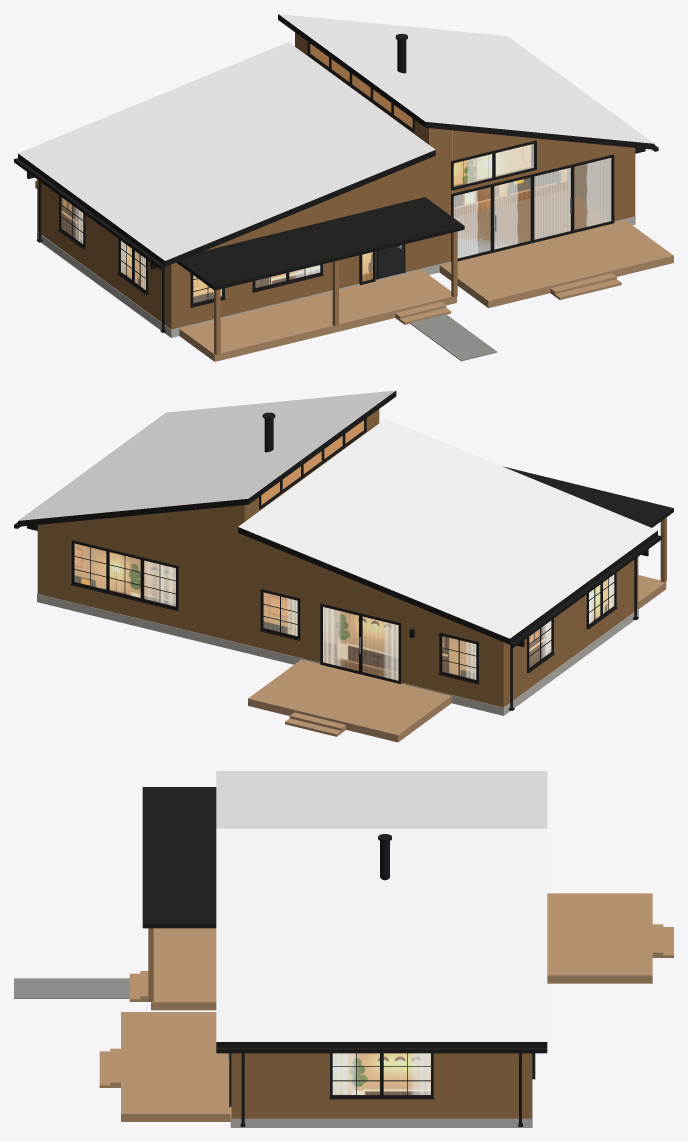
Rendered from sume162_c0_p0_m1.glb.
3 renders of one model, top to bottom at view 1: azimuth 30°, elevation 25°; view 2: azimuth 150°, elevation 25°; view 3: azimuth 270°, elevation 25°, orthographic. The views are drawn at different scales.
Parts seen in each view (by area): view 1: roof, wall, deck, fascia, glass, veil, room, frame, soffit, plinth, paving, interior_side (+2 smaller); view 2: roof, wall, glass, room, deck, fascia, frame, sheer, plinth; view 3: roof, deck, fascia, wall, glass, room, plinth, paving, sheer, frame.
Part boxes in pixels (x1,y1,x2,y2): roof: [18, 14, 654, 260]; wall: [37, 32, 635, 329]; deck: [35, 180, 673, 361]; fascia: [14, 14, 658, 332]; glass: [61, 44, 610, 302]; veil: [454, 144, 610, 258]; room: [61, 44, 566, 303]; frame: [57, 42, 614, 307]; soffit: [214, 190, 609, 355]; plinth: [37, 216, 635, 337]; paving: [410, 314, 497, 361]; interior_side: [452, 130, 610, 220]; roof: [18, 390, 657, 638]; wall: [37, 409, 638, 707]; glass: [75, 421, 613, 679]; room: [74, 420, 613, 679]; deck: [248, 575, 666, 742]; fascia: [14, 391, 673, 710]; frame: [70, 418, 617, 684]; sheer: [144, 560, 614, 680]; plinth: [37, 593, 638, 715]; roof: [216, 771, 547, 1041]; deck: [99, 893, 673, 1121]; fascia: [142, 787, 547, 1126]; wall: [231, 1053, 532, 1118]; glass: [333, 1054, 430, 1094]; room: [334, 1053, 430, 1094]; plinth: [230, 1079, 532, 1127]; paving: [14, 978, 129, 998]; sheer: [332, 1053, 430, 1094]; frame: [229, 1053, 535, 1107].
Size of the model in its own units: 19.3 by 6.61 by 19.74.
Materials: 18 (7 with a texture image).
